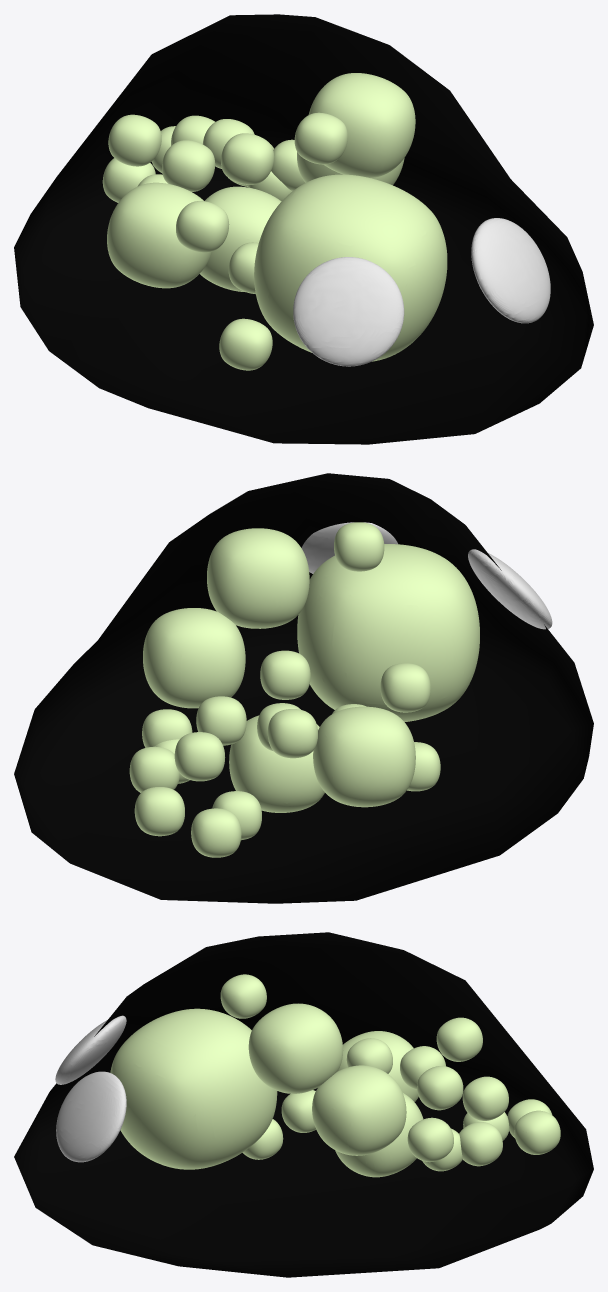
Rendered from Slime.fbx.
3 views of the same model, one above another, from view 1: azimuth 30°, elevation 25°; view 2: azimuth 150°, elevation 25°; view 3: azimuth 270°, elevation 25° (orthographic). The views are drawn at different scales.
Parts seen in each view (by area): view 1: Sphere.001, Cube.022, Eyes.001; view 2: Sphere.001, Cube.022, Eyes.001; view 3: Sphere.001, Cube.022, Eyes.001.
Boxes of the visible parts, x1,y1,x2,y2 form: Sphere.001: (14,14,593,444); Cube.022: (102,73,447,370); Eyes.001: (293,218,550,366); Sphere.001: (14,473,593,903); Cube.022: (129,522,479,857); Eyes.001: (301,522,552,629); Sphere.001: (14,932,593,1277); Cube.022: (110,974,560,1177); Eyes.001: (55,1015,126,1162).
Size of the model in its own units: 194 by 241 by 115.
